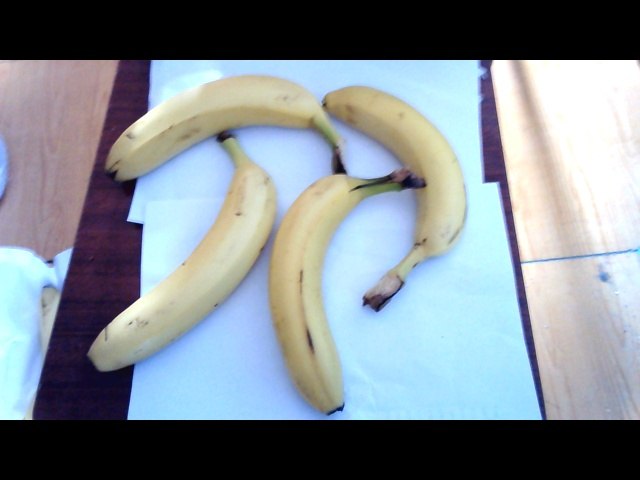banana: (93, 159, 271, 380), (346, 86, 472, 299), (270, 169, 360, 422), (98, 67, 335, 162)
